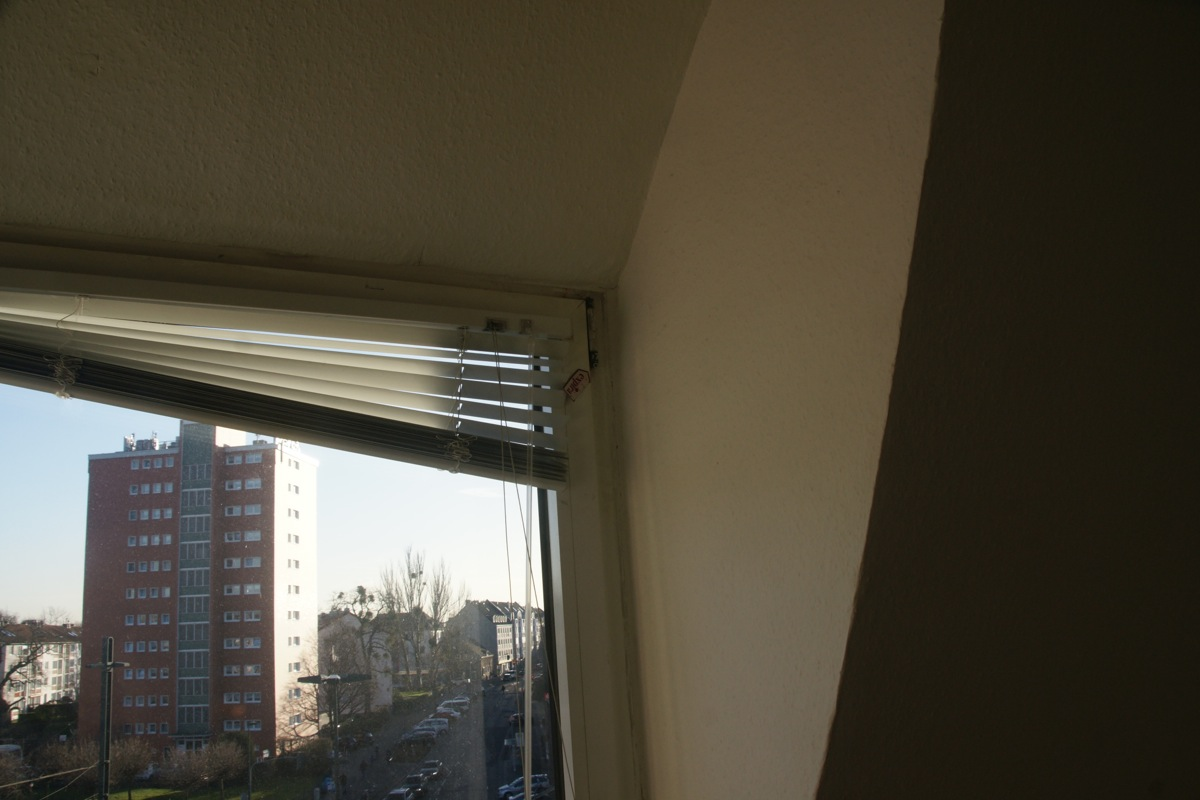windows: (4, 259, 627, 791)
